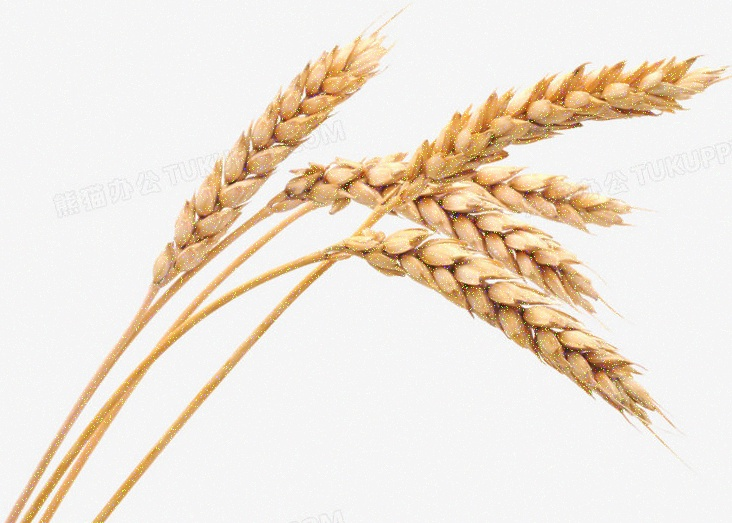wheat: (134, 32, 378, 317), (357, 46, 726, 232), (327, 233, 662, 428)
